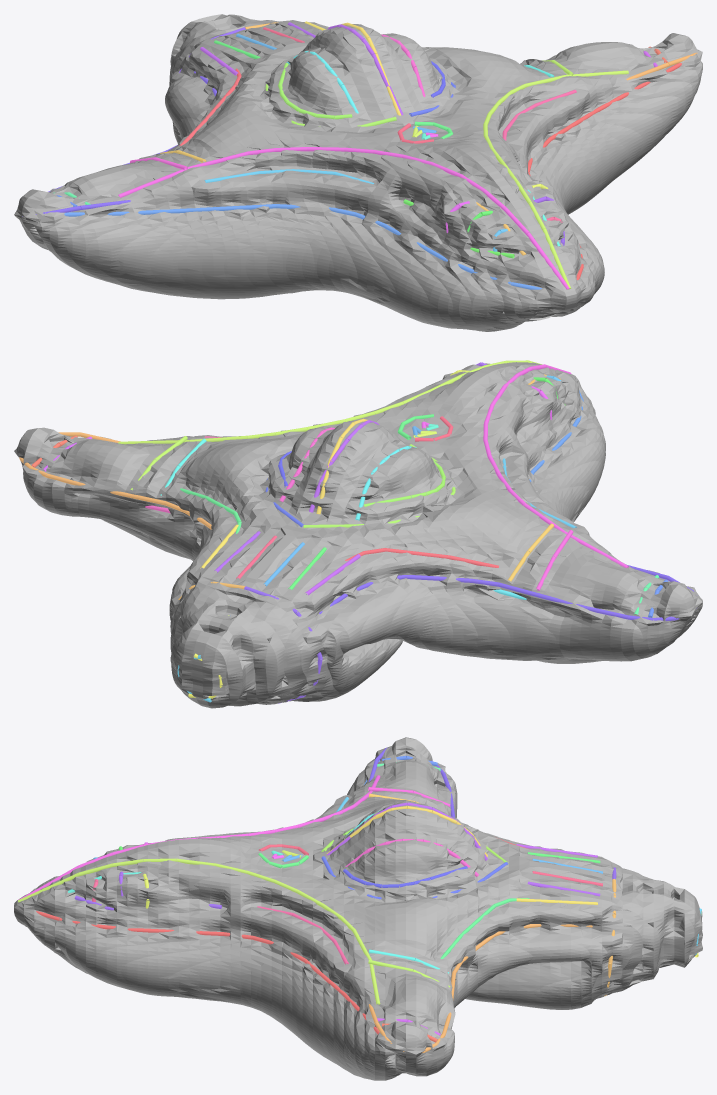
File: author1_ship.gltf
3 views of the same model, one above another, from view 1: azimuth 30°, elevation 25°; view 2: azimuth 150°, elevation 25°; view 3: azimuth 270°, elevation 25° (orthographic). The views are drawn at different scales.
Size of the model in its own units: 0.7153 by 0.2059 by 0.6857.
